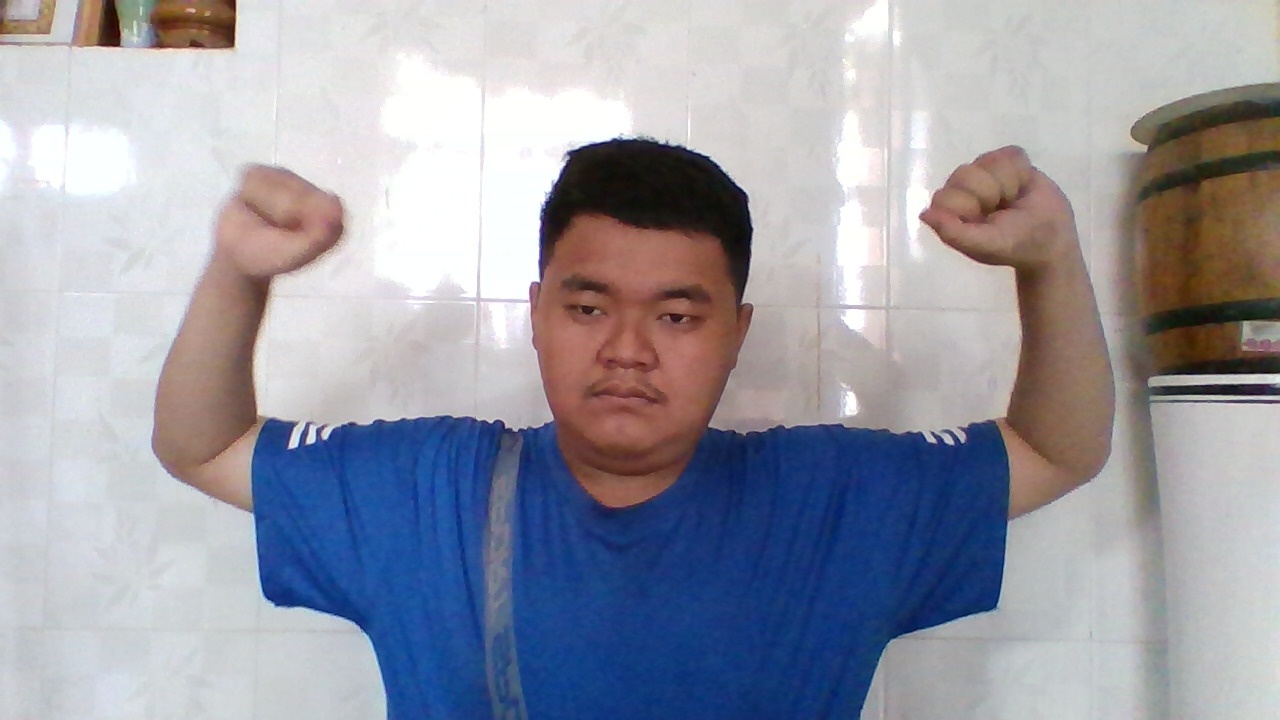A: (911, 133, 1065, 268), (219, 158, 347, 279)
